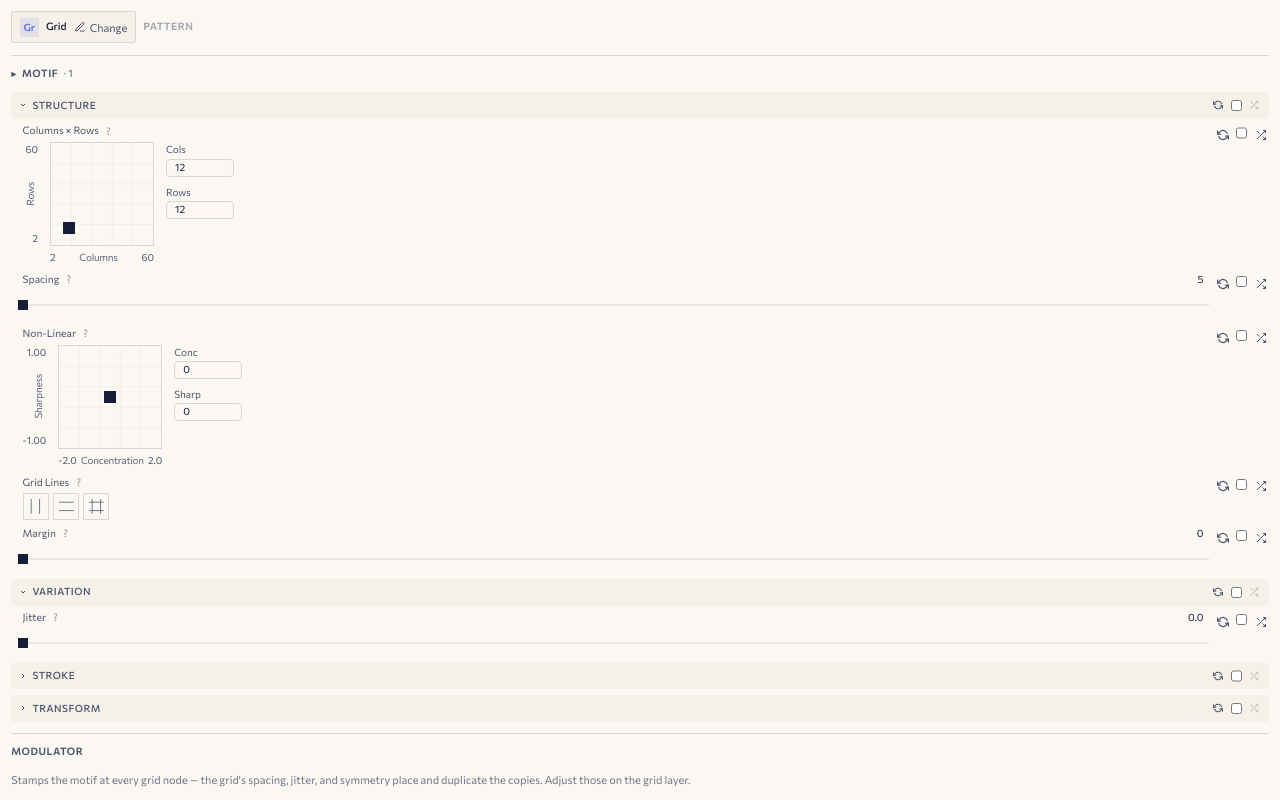
Test: MotifDevice › shows on an eligible host and lists its motifs
Expected: the element with test id "motif-device" is shown, [11, 54, 1269, 81]
What coordinates should you click on to do the following:
click the button with test id "motif-toggle"
I would click on:
 (40, 73)
Its box is [11, 67, 1269, 81].
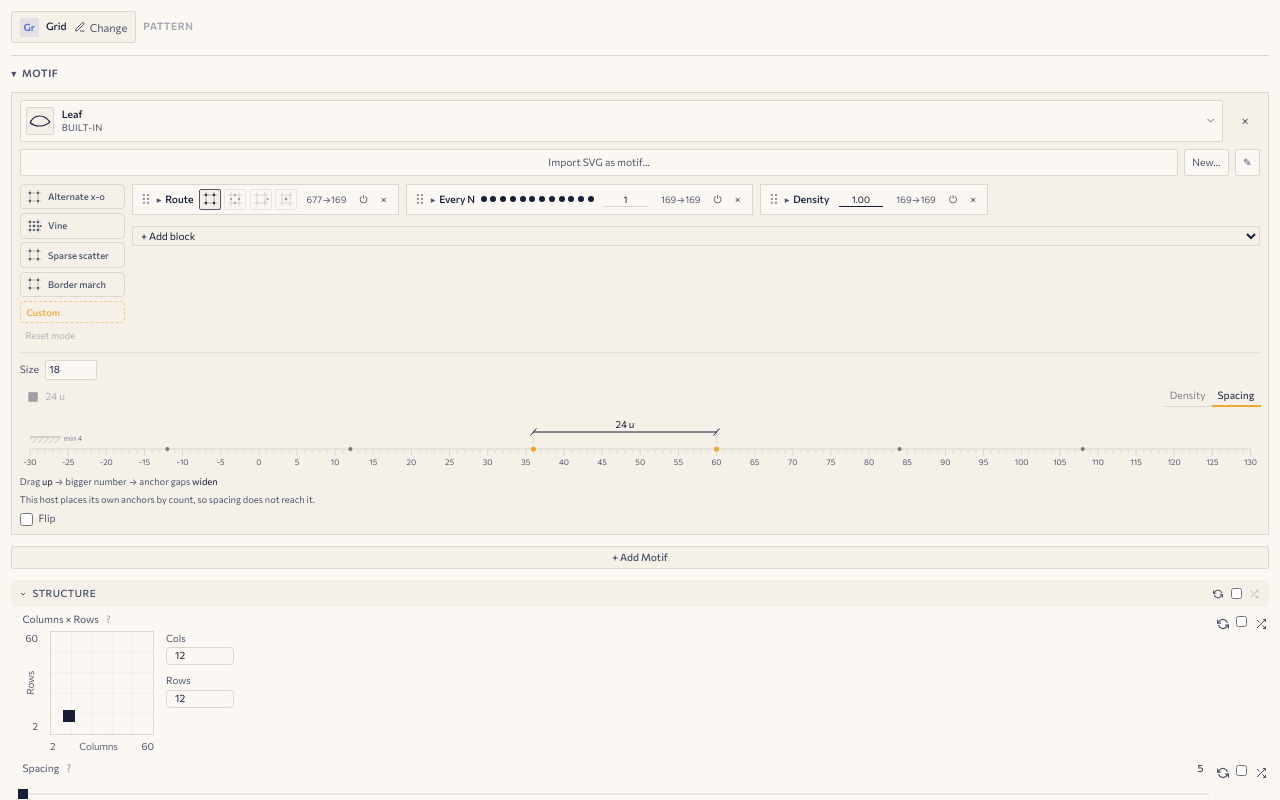
Result: the number of elements with test id "motif-row" is 1 at [11, 92, 1269, 534]
